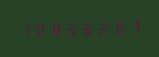eight: (47, 20, 61, 37)
five: (62, 20, 76, 37)
one: (17, 21, 31, 37)
seven: (122, 19, 136, 36)
six: (77, 20, 91, 36)
two: (92, 19, 106, 36)
zero: (32, 20, 46, 37), (107, 19, 121, 36)
